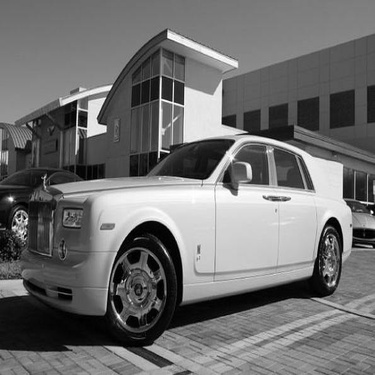car: (6, 137, 358, 352), (1, 163, 87, 230), (328, 194, 373, 252)
